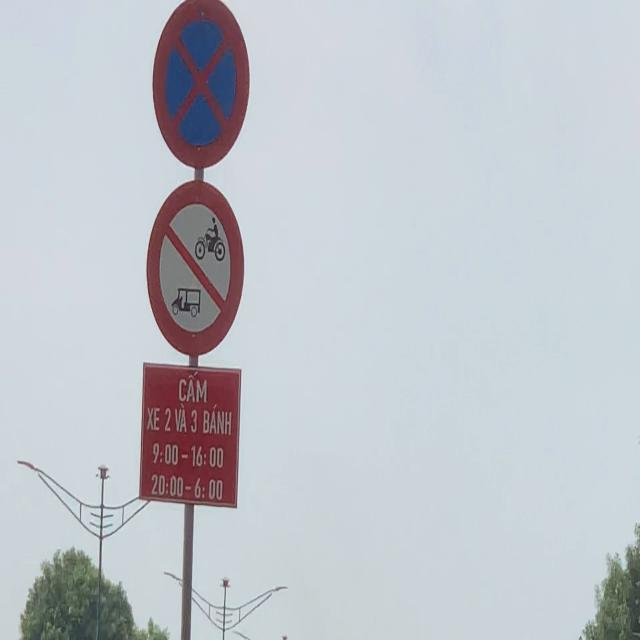Cam con lai: (147, 178, 245, 360)
Cam dung va do: (152, 0, 250, 170)
